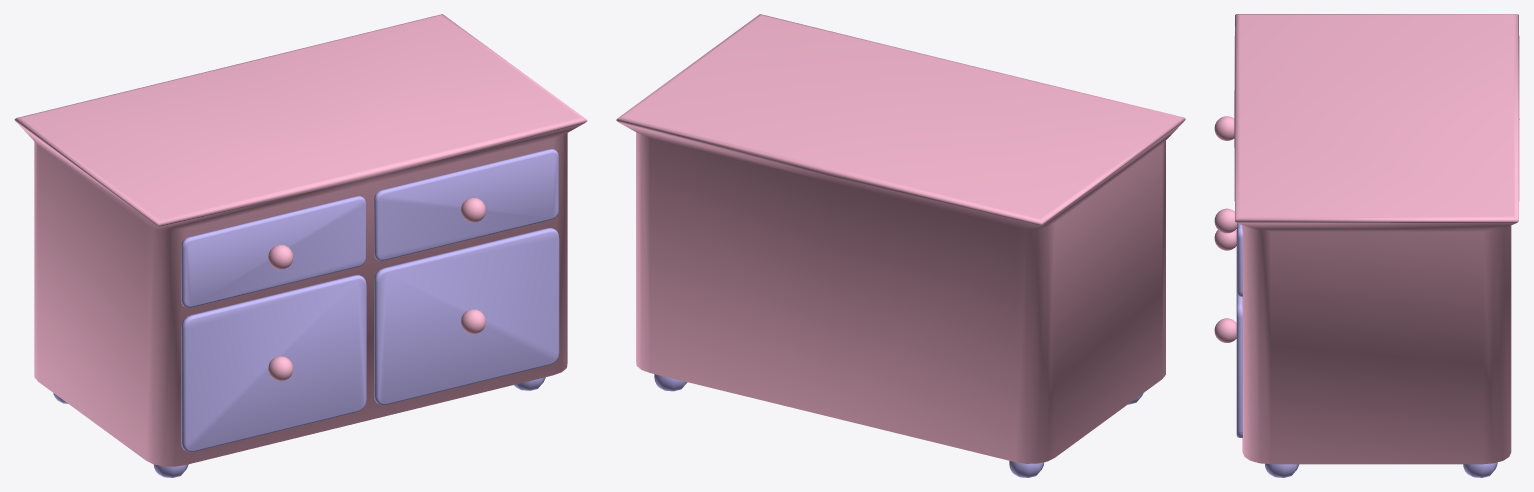
Rendered from ETEISPÖYTÄplusvärit.fbx.
3 renders of one model, left to right at view 1: azimuth 30°, elevation 25°; view 2: azimuth 150°, elevation 25°; view 3: azimuth 270°, elevation 25°, orthographic.
Visible parts, largest first — view 1: Sphere.003; view 2: Sphere.003; view 3: Sphere.003.
Part boxes in pixels (box(x1,y1,x2,y2)): Sphere.003: box(14, 14, 587, 477); Sphere.003: box(616, 14, 1185, 477); Sphere.003: box(1214, 14, 1519, 477).
Bounding box in the file's own units: 3.52 × 2.16 × 2.2.
